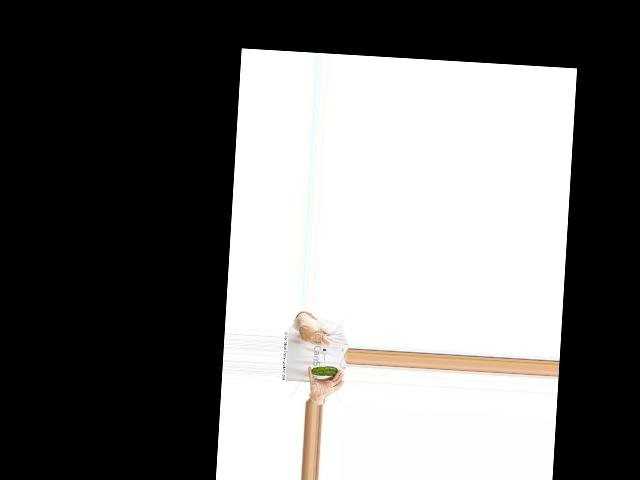cucumber: (311, 366, 338, 377)
